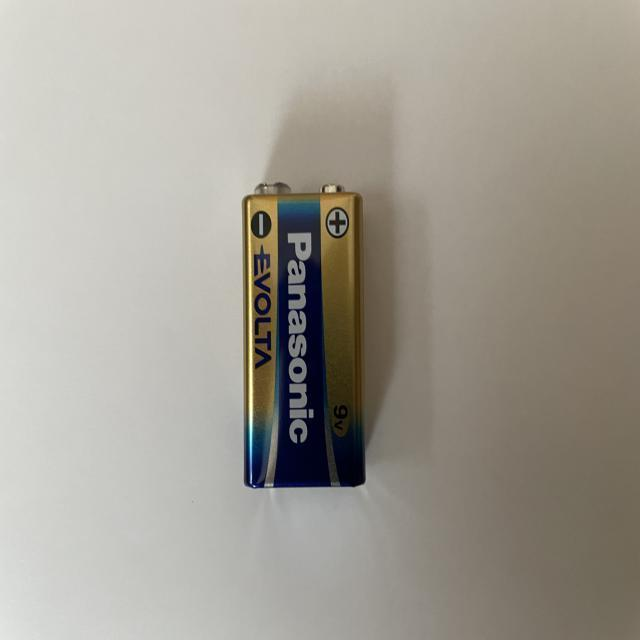9V: (241, 178, 366, 488)
